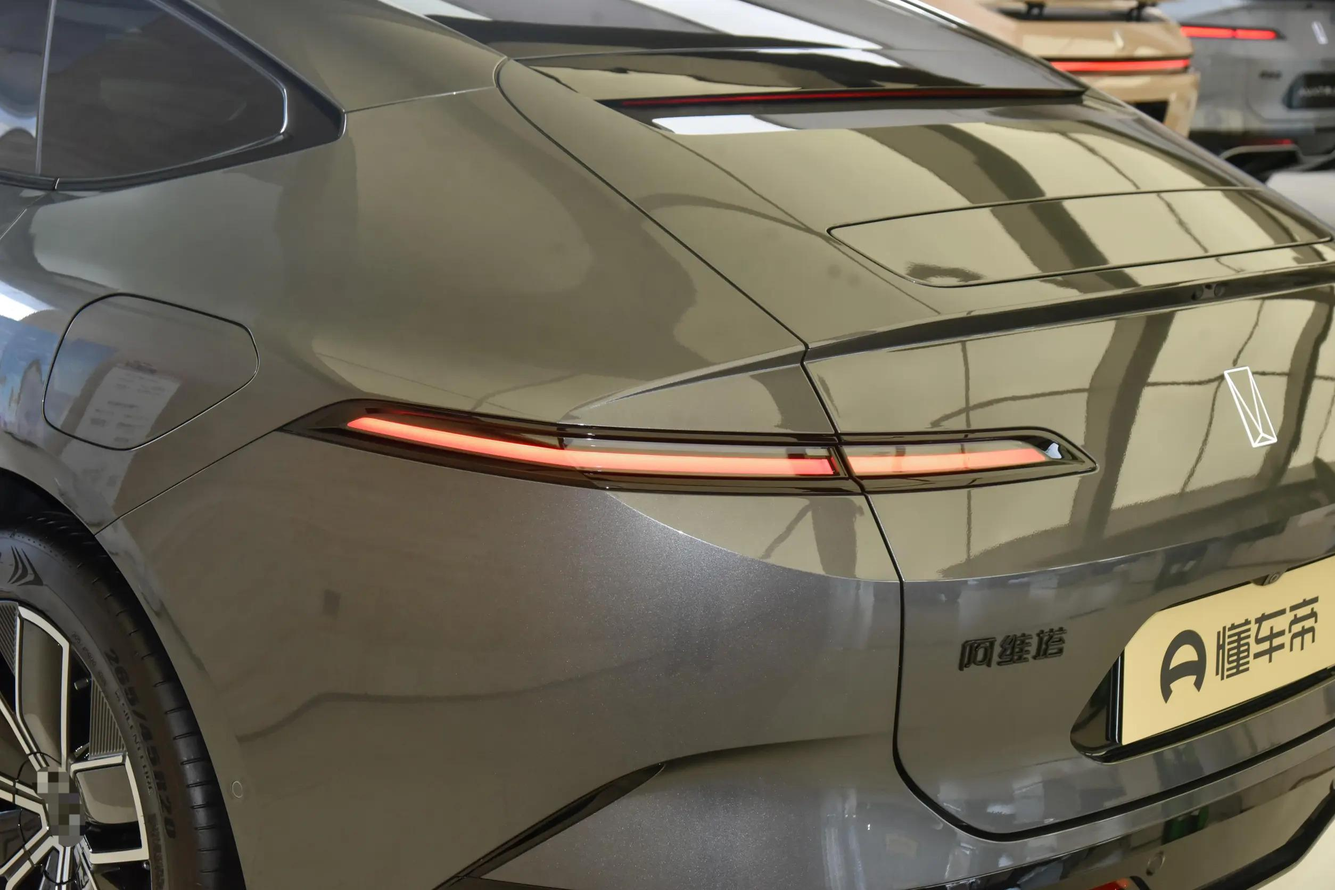AVATR: (1224, 366, 1277, 448)
